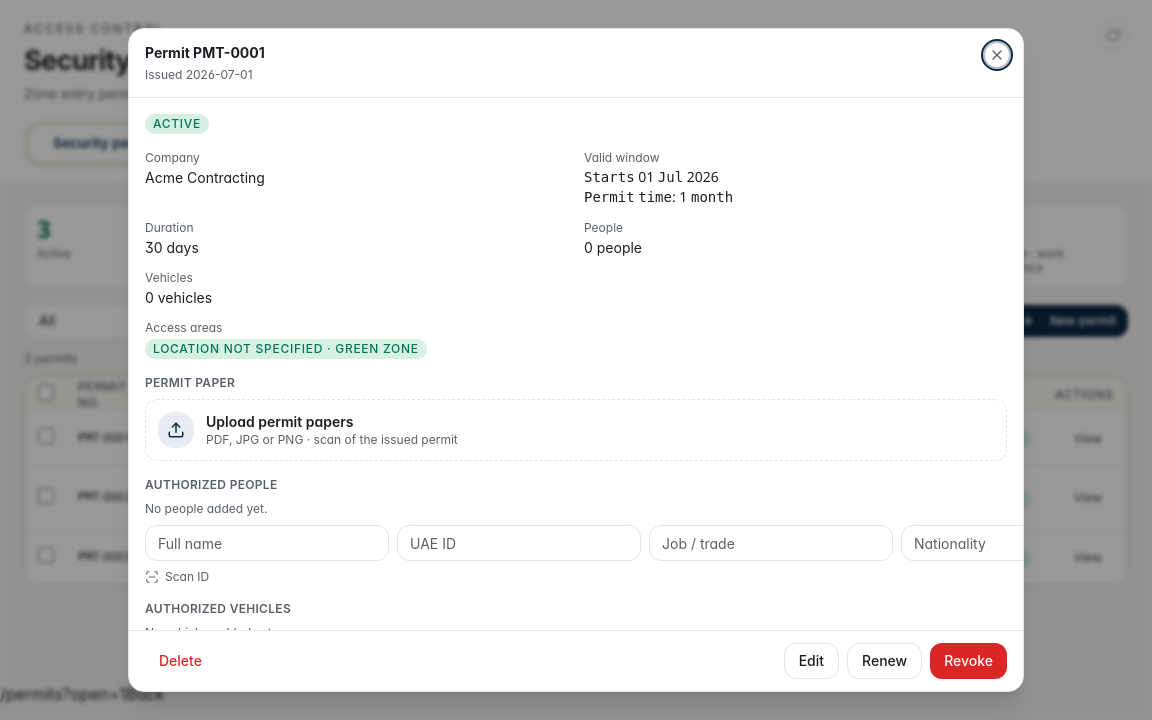
Test: PermitsPage › opens a directly linked permit and Close stays on the permits list
The width and height of the screenshot is (1152, 720).
expect the text "Acme Contracting" is shown: met, box [145,169,265,186]
Click the button named "close" at (997, 55), box [985,43,1009,67]
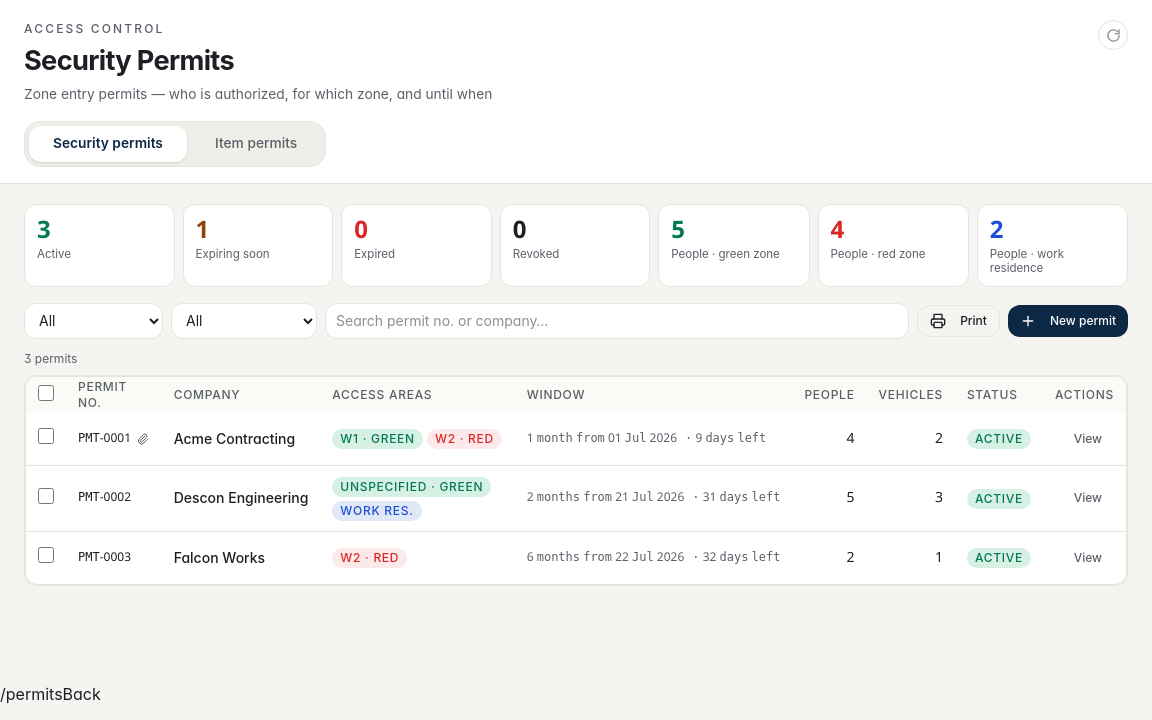
expect the text with test id "location" reads "/permits": met, box [0,684,63,704]
